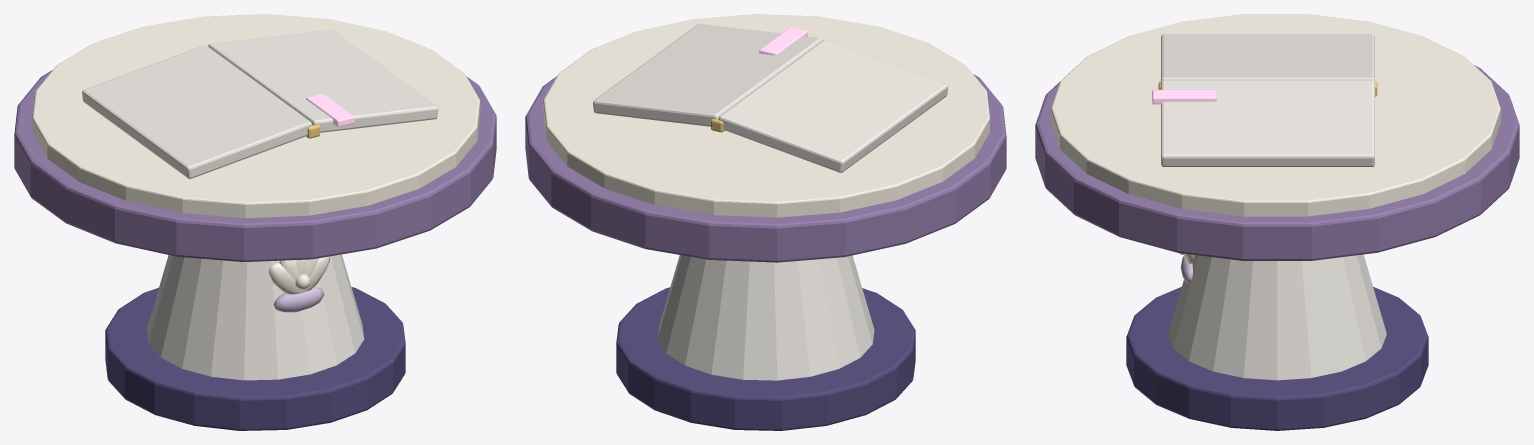
Rendered from pearl_library_table.glb.
The picture shows the model from 3 angles, left to right: view 1: azimuth 30°, elevation 25°; view 2: azimuth 150°, elevation 25°; view 3: azimuth 270°, elevation 25°; orthographic projection.
Parts seen in each view (by area): view 1: pearl_library_table.001; view 2: pearl_library_table.001; view 3: pearl_library_table.001.
Boxes of the visible parts, <box> form: pearl_library_table.001: <box>14,14,496,430</box>; pearl_library_table.001: <box>525,14,1006,430</box>; pearl_library_table.001: <box>1035,14,1519,430</box>.
Bounding box in the file's own units: 6.1 × 4.06 × 6.16.
